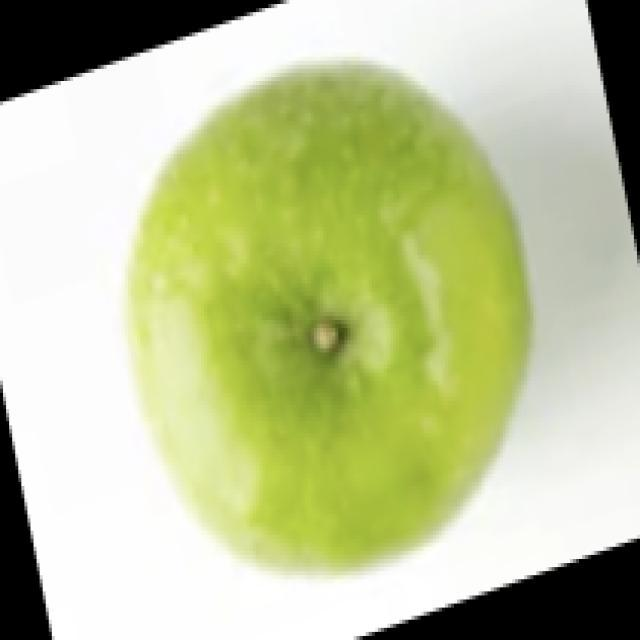Apple: (123, 56, 532, 577)
